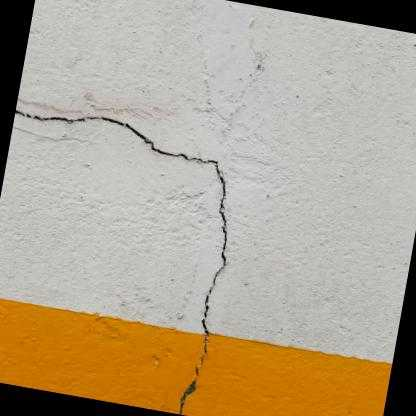crack: (13, 108, 232, 414)
